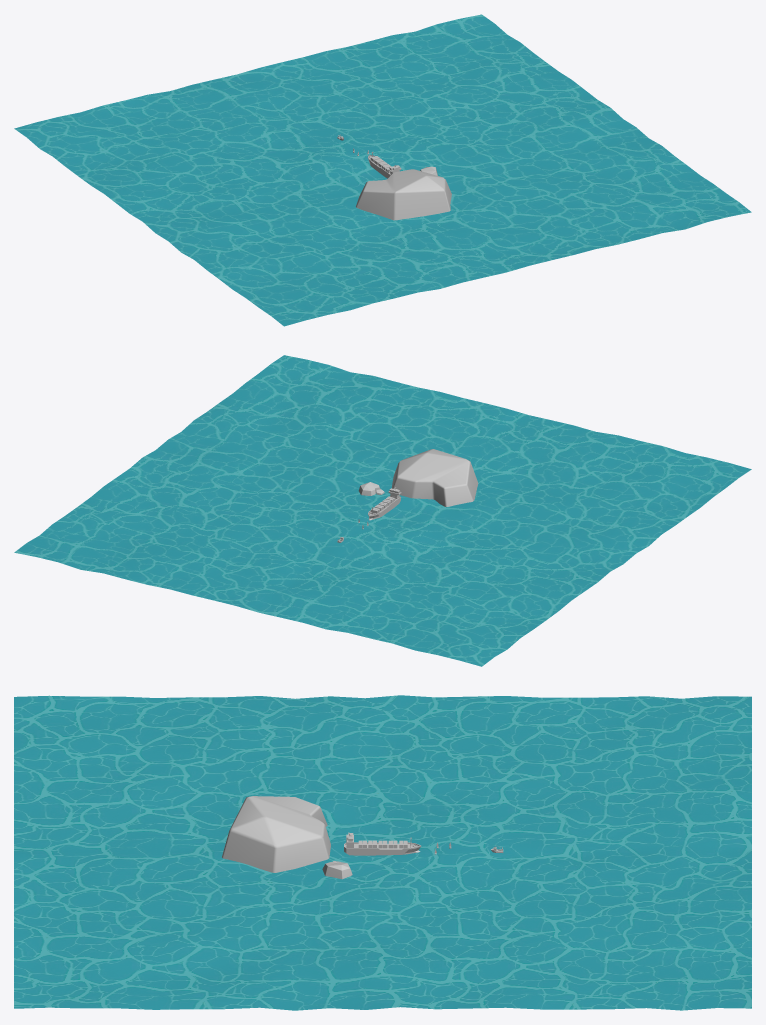
Rendered from changjing7_1.fbx.
3 renders of one model, top to bottom at view 1: azimuth 30°, elevation 25°; view 2: azimuth 150°, elevation 25°; view 3: azimuth 270°, elevation 25°, orthographic. The views are drawn at different scales.
Visible parts, largest first — view 1: changjing_7_1; view 2: changjing_7_1; view 3: changjing_7_1, DaHuoLun1.
Boxes of the visible parts, box(x1,y1,x2,y2) form: changjing_7_1: box(14, 14, 751, 326); changjing_7_1: box(14, 355, 751, 666); changjing_7_1: box(14, 695, 751, 1010); DaHuoLun1: box(344, 832, 421, 855).
Size of the model in its own units: 50226 by 3911 by 50226.
